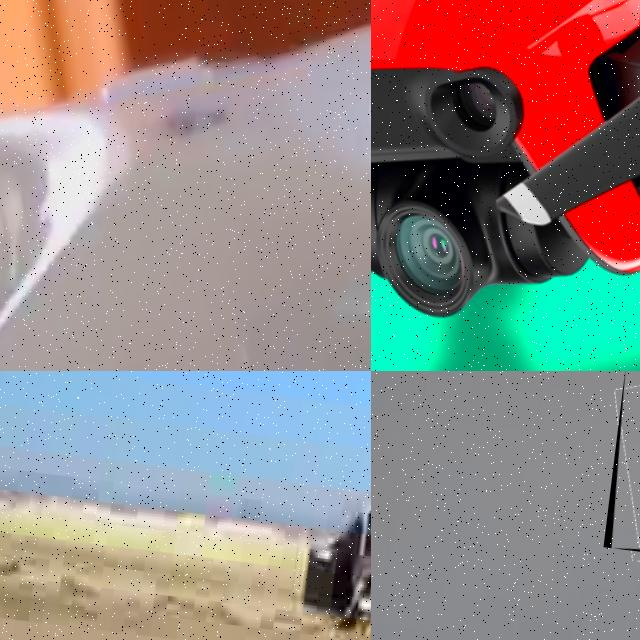drone: (0, 0, 371, 371), (371, 0, 640, 371)
